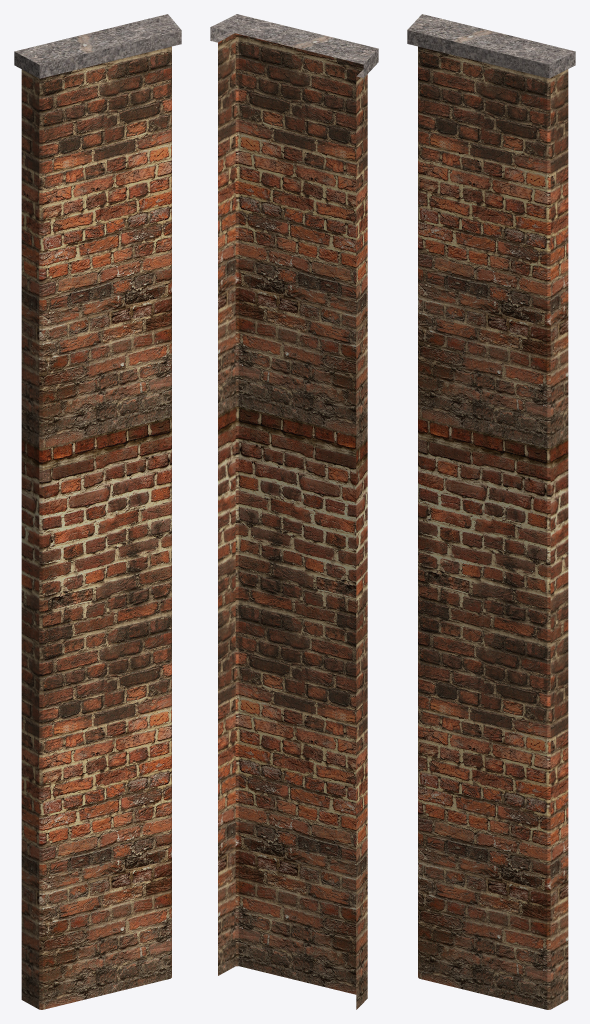
The model's file is BUILDING_wallColumn_01.FBX.
3 views of the same model, side by side, from view 1: azimuth 30°, elevation 25°; view 2: azimuth 150°, elevation 25°; view 3: azimuth 330°, elevation 25° (orthographic).
Parts seen in each view (by area): view 1: BUILDING_wallColumn_01; view 2: BUILDING_wallColumn_01; view 3: BUILDING_wallColumn_01.
Boxes of the visible parts, bbox=[...] form: BUILDING_wallColumn_01: bbox=[14, 14, 181, 1009]; BUILDING_wallColumn_01: bbox=[210, 14, 378, 1009]; BUILDING_wallColumn_01: bbox=[407, 14, 575, 1009].
Size of the model in its own units: 0.8434 by 4.98 by 0.1919.
Materials: 2 (2 with a texture image).
